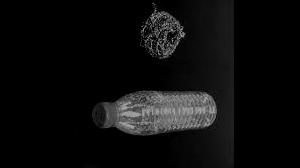bottle: (88, 88, 218, 137)
